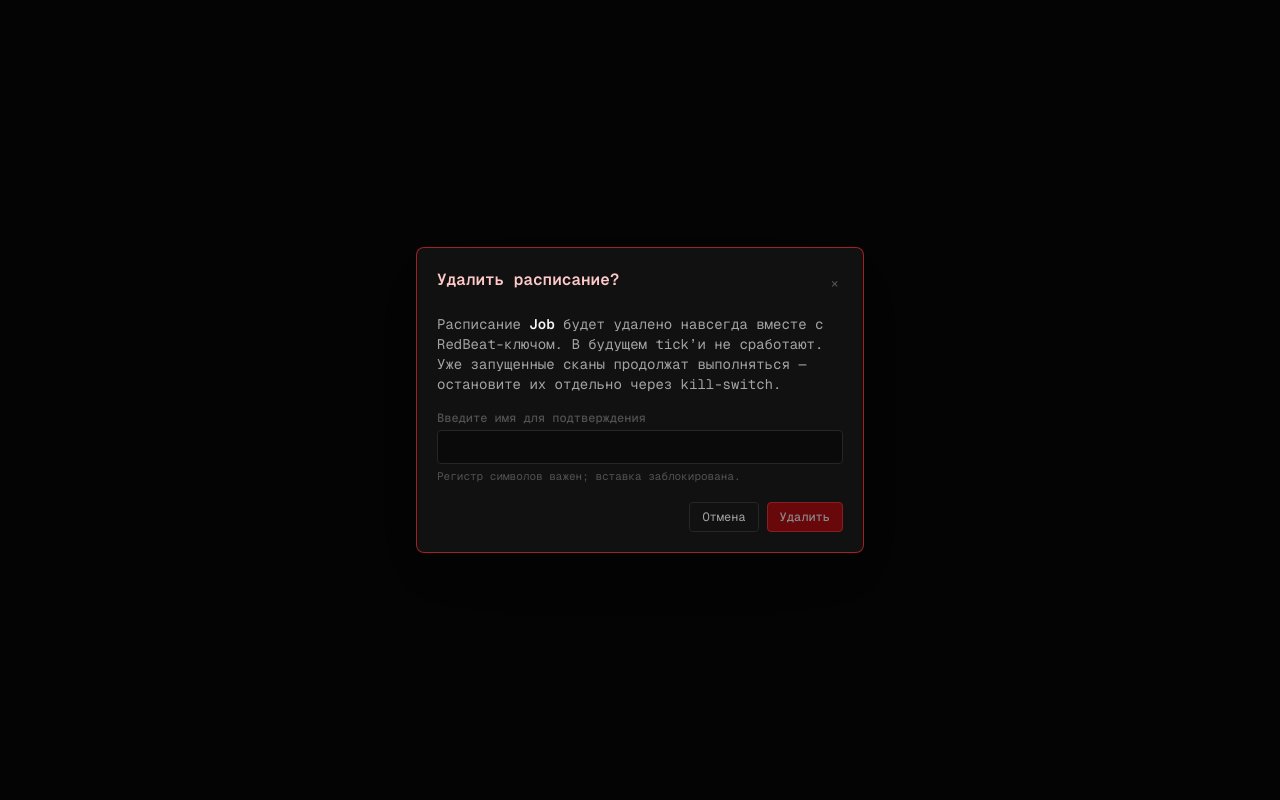
Test case: DeleteScheduleDialog › renders RU sentence on backend error
The image size is (1280, 800).
Type "Job" into the field with test id "delete-schedule-typed-name" at (640, 447), box top-left (437, 430), bottom-right (843, 464)
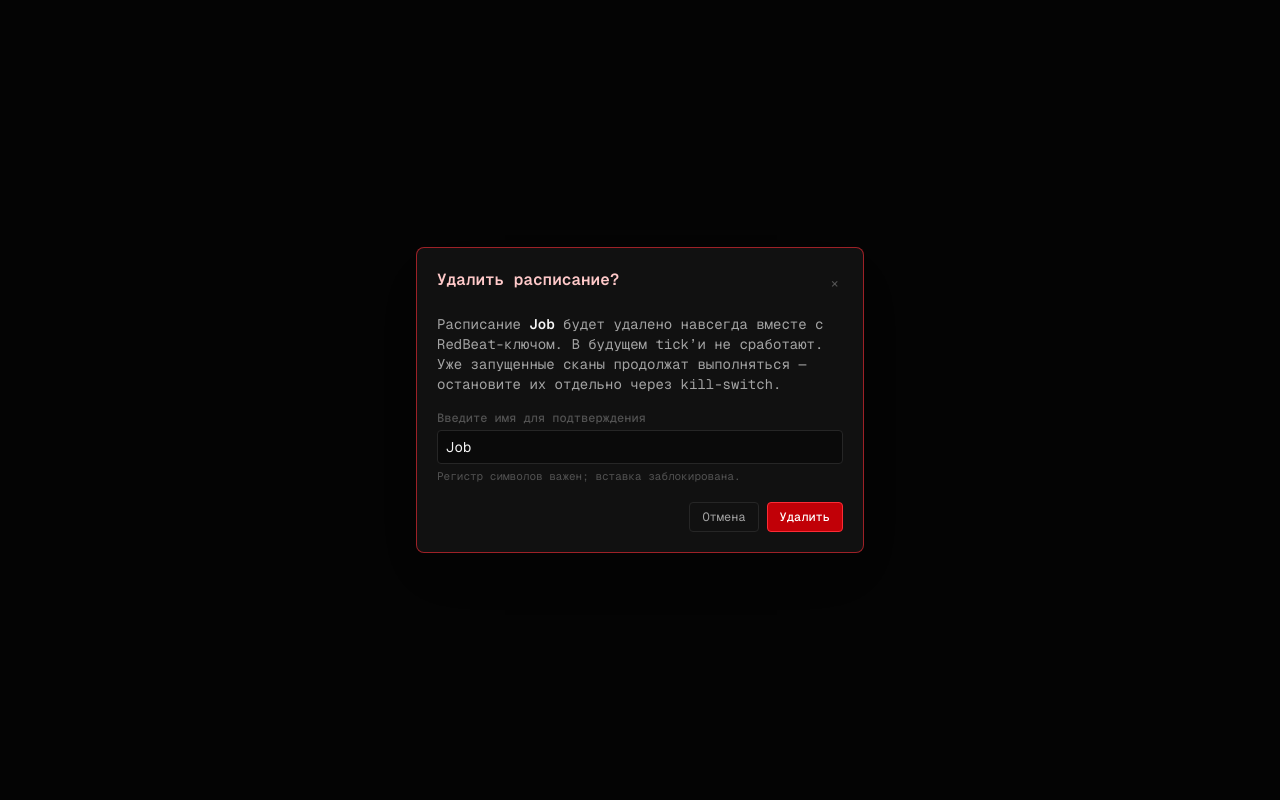
Click the button with test id "delete-schedule-confirm" at (805, 517), box top-left (767, 502), bottom-right (843, 532)
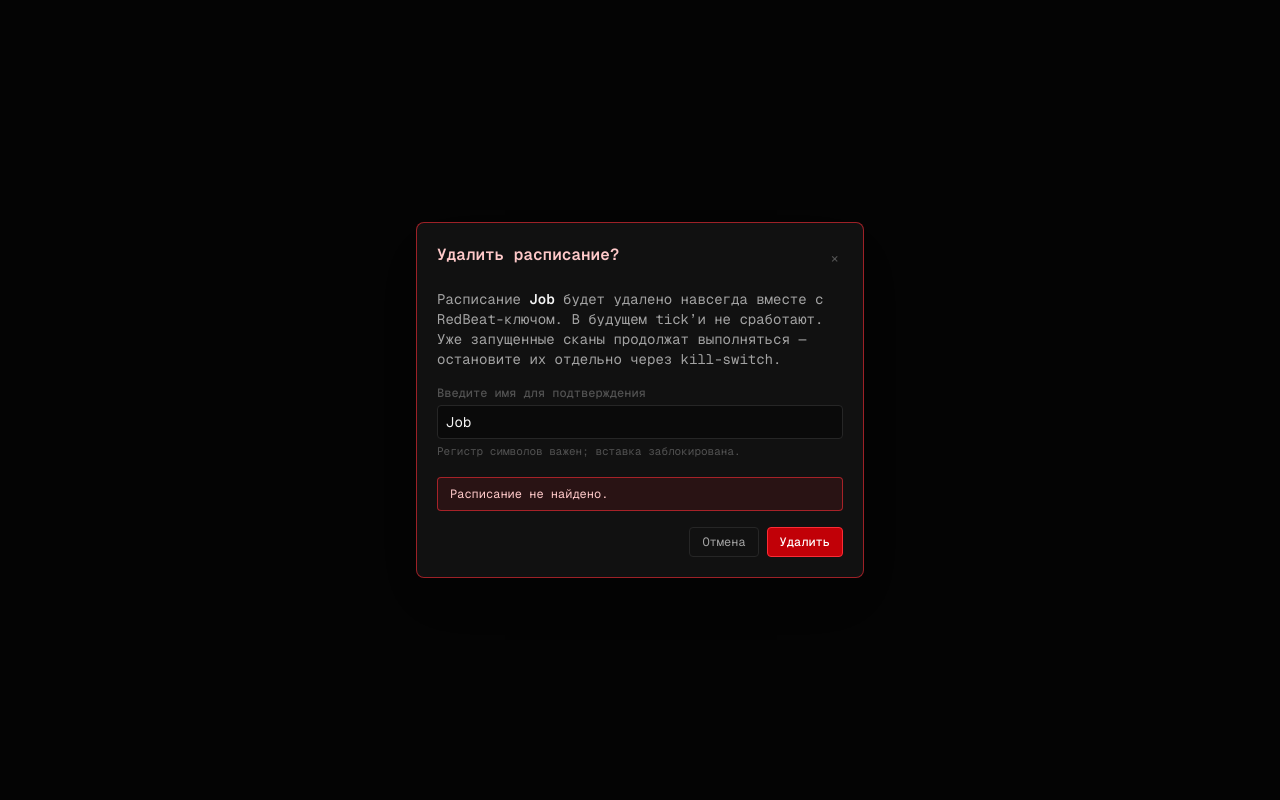
Now the message with test id "delete-schedule-error" shows "не найдено", box top-left (450, 486), bottom-right (608, 502)
